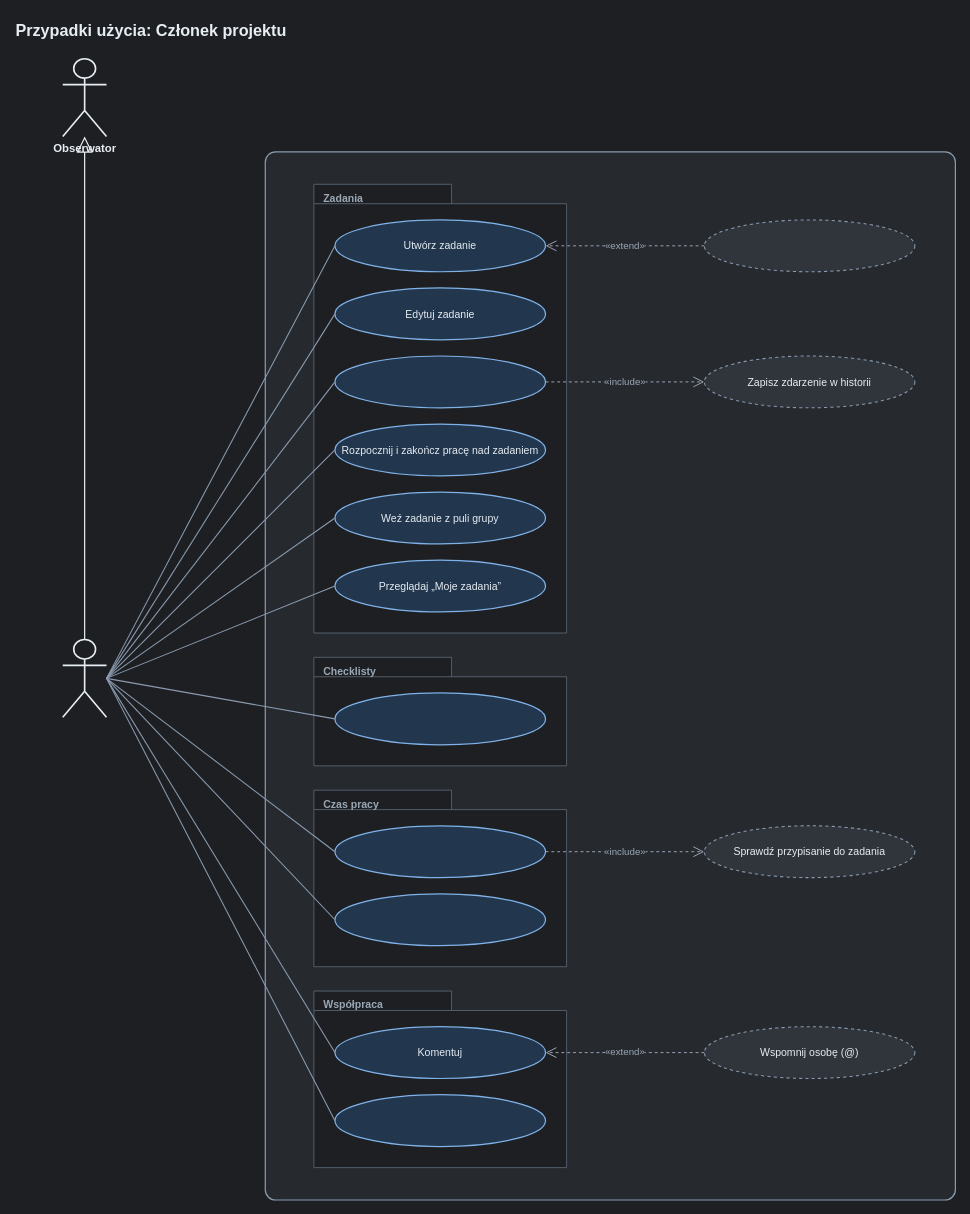
Some shapes in this 970 by 1214 pixel diagram are drawn without their labels. The centre of each missing label's shape, as x and y in pixels:
"Członek projektu" goes at [84,678].
"Dodaj podzadanie" goes at [809,245].
"Dodaj załącznik" goes at [440,1120].
"Odhacz punkt checklisty" goes at [440,718].
"Przeglądaj kartę czasu" goes at [440,919].
"Rejestruj czas pracy" goes at [440,851].
"Zmień status zadania" goes at [440,381].
